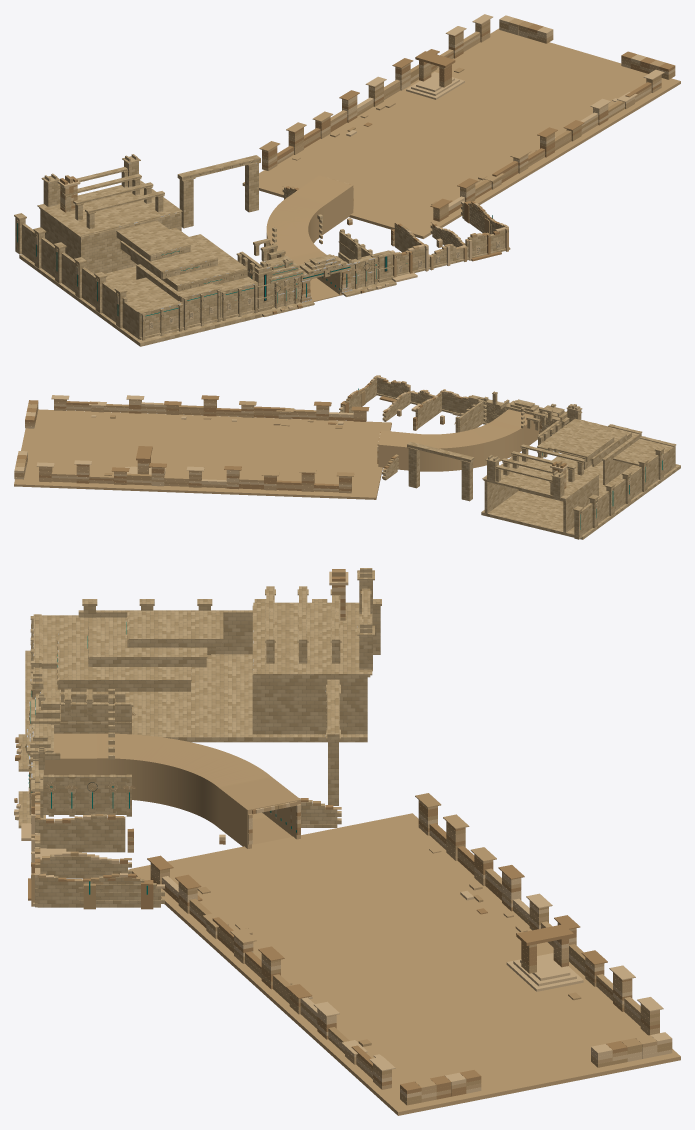
Rendered from Ruins_Field_Alpha_PanelWalls.obj.
3 renders of one model, top to bottom at view 1: azimuth 30°, elevation 25°; view 2: azimuth 150°, elevation 25°; view 3: azimuth 270°, elevation 25°, orthographic. The views are drawn at different scales.
Parts seen in each view (by area): view 1: Ruins_Field_Alpha_PanelWalls; view 2: Ruins_Field_Alpha_PanelWalls; view 3: Ruins_Field_Alpha_PanelWalls.
Boxes of the visible parts, x1=… form: Ruins_Field_Alpha_PanelWalls: x1=14, y1=14, x2=680, y2=346; Ruins_Field_Alpha_PanelWalls: x1=14, y1=375, x2=680, y2=539; Ruins_Field_Alpha_PanelWalls: x1=14, y1=568, x2=680, y2=1115.
Bounding box in the file's own units: 1606 × 182 × 975.
10 materials, 1 textured.
